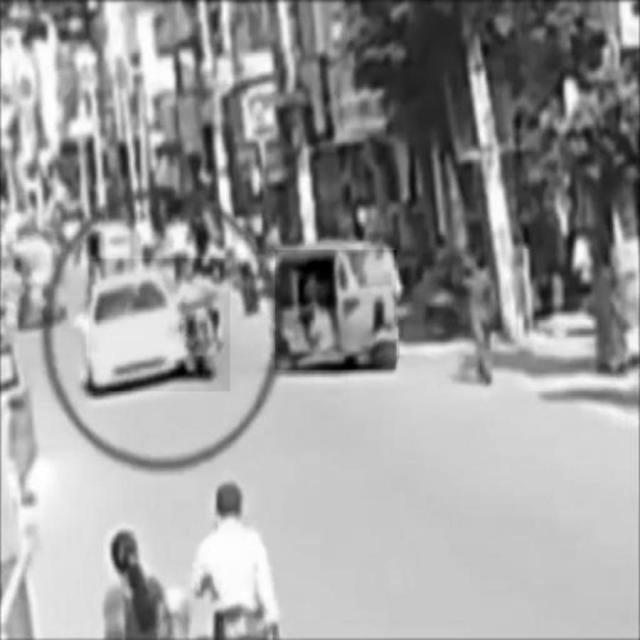accident: (89, 259, 230, 391)
vehicle: (275, 251, 396, 371)
